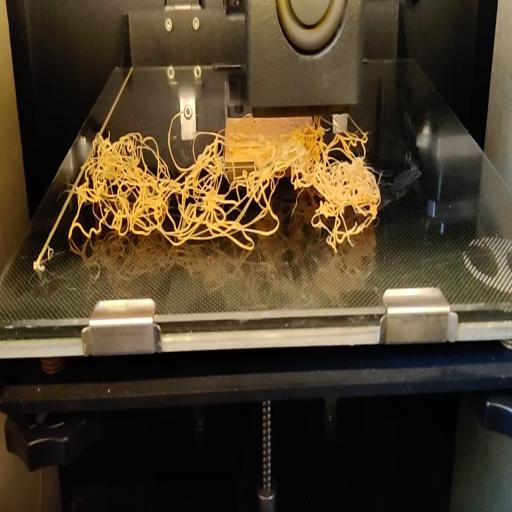spaghetti: (69, 112, 280, 264), (280, 113, 384, 248)
